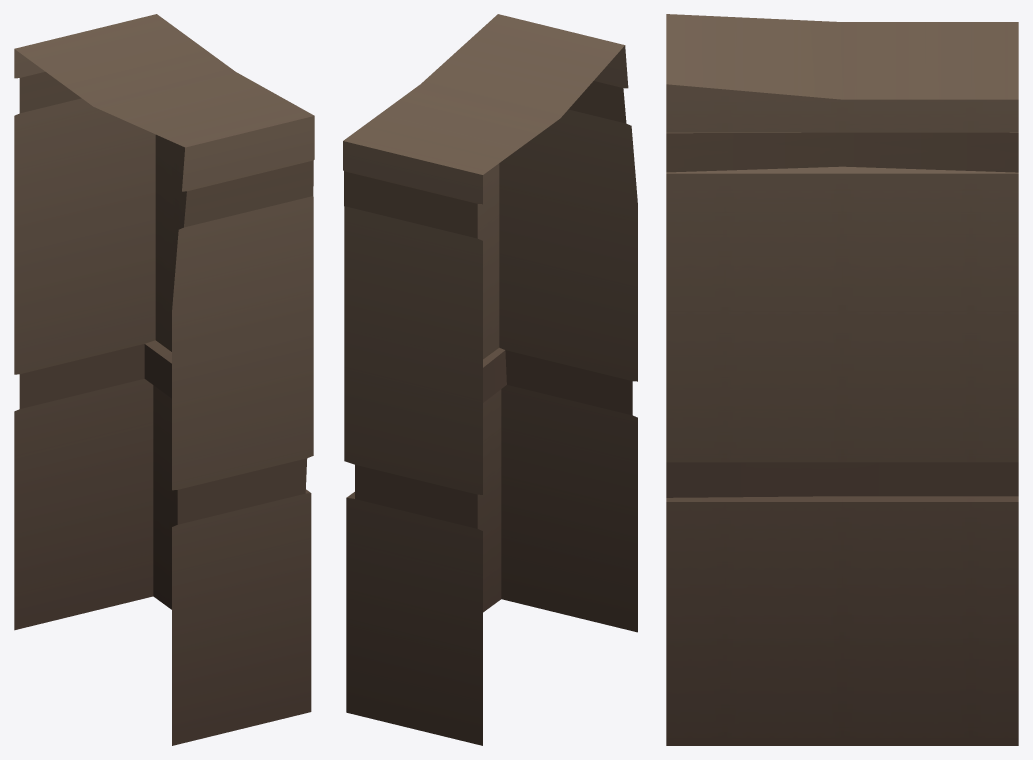
Rendered from pared_1.fbx.
3 renders of one model, left to right at view 1: azimuth 30°, elevation 25°; view 2: azimuth 150°, elevation 25°; view 3: azimuth 270°, elevation 25°, orthographic. The views are drawn at different scales.
Visible parts, largest first — view 1: ParedMedia.003; view 2: ParedMedia.003; view 3: ParedMedia.003.
Part boxes in pixels (<box>): ParedMedia.003: <box>14,14,314,745</box>; ParedMedia.003: <box>343,14,637,745</box>; ParedMedia.003: <box>666,14,1018,745</box>.
Size of the model in its own units: 205 by 819 by 394.
